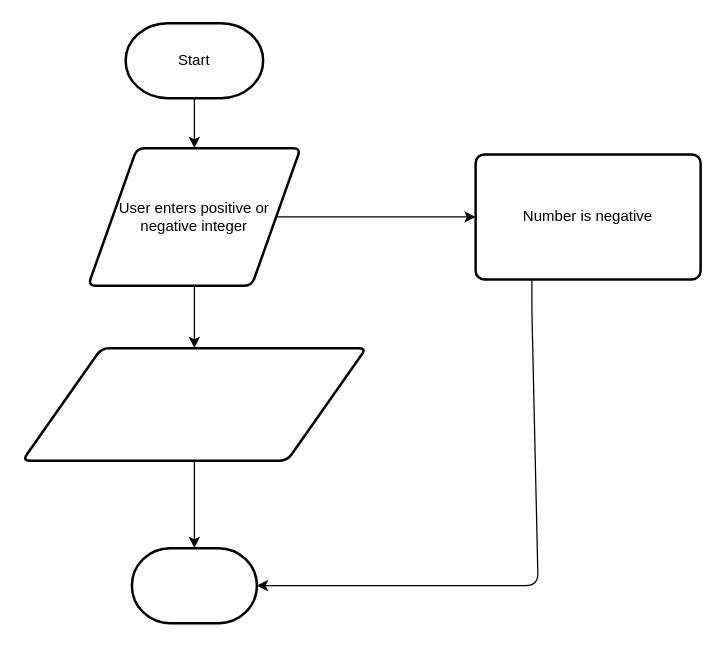
Image size: 724x645. Some labels were removed from this diagram. Here are the shapes that lost their labels. From the top down, the centre of each, then its label:
the point at 194,403: Number is positive
the point at 194,585: Stop
